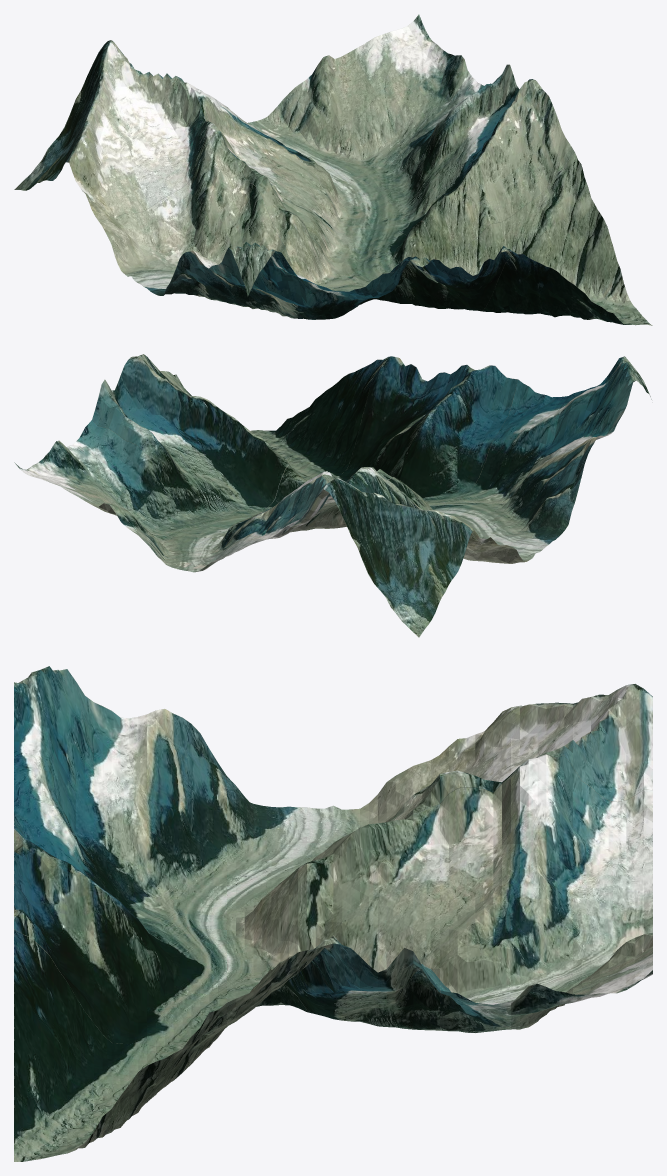
3 views of the same model, one above another, from view 1: azimuth 30°, elevation 25°; view 2: azimuth 150°, elevation 25°; view 3: azimuth 270°, elevation 25° (orthographic). The views are drawn at different scales.
Parts seen in each view (by area): view 1: Layer 01; view 2: Layer 01; view 3: Layer 01.
Part boxes in pixels (x1,y1,x2,y2): Layer 01: (14, 14, 652, 325); Layer 01: (14, 354, 651, 637); Layer 01: (14, 666, 652, 1161).
Bounding box in the file's own units: 0.402 × 0.1861 × 0.402.
Materials: 1 (1 with a texture image).
